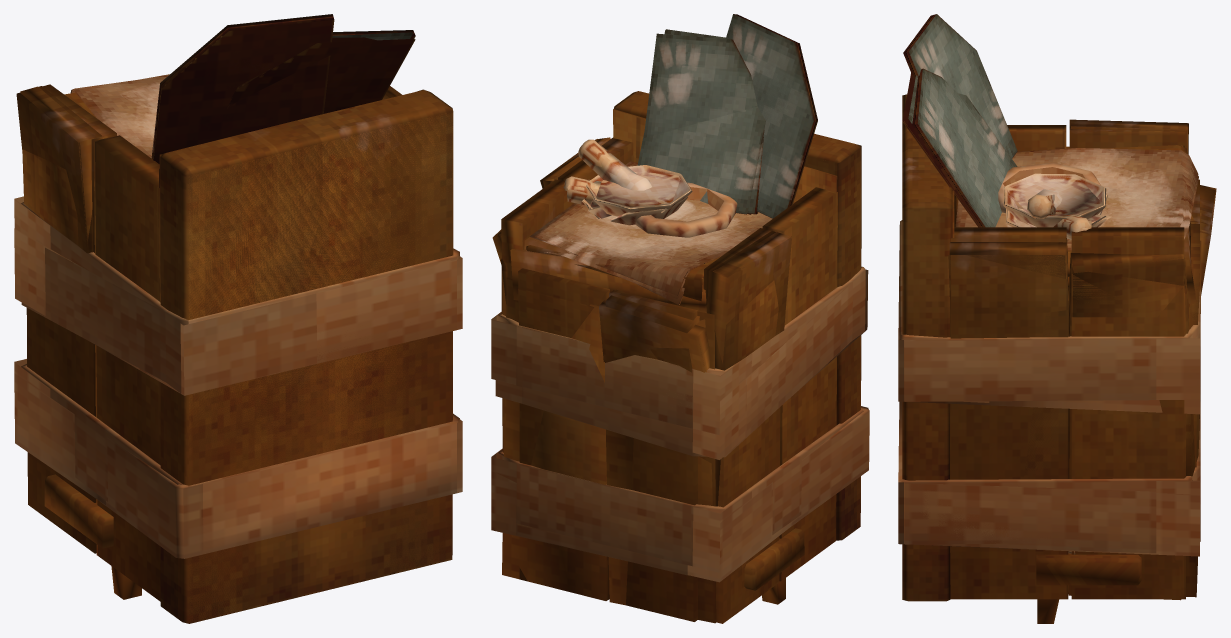
The model's file is chSalonStation.fbx.
3 views of the same model, side by side, from view 1: azimuth 30°, elevation 25°; view 2: azimuth 150°, elevation 25°; view 3: azimuth 270°, elevation 25° (orthographic). The views are drawn at different scales.
Parts seen in each view (by area): view 1: NHigh, NLow, OHigh, OLow, Destroyed_Board03, Salon_Shelf; view 2: NHigh, OHigh, NLow, Destroyed_Board02, OLow, Destroyed_Mirror, Destroyed_Board03, Destroyed_Table, Salon_Shelf, Salon_Vase, Destroyed_Backboard; view 3: OHigh, NHigh, NLow, OLow, Destroyed_Board02, Destroyed_Mirror, Salon_Shelf, Destroyed_Board01, Salon_Vase, Destroyed_Board03, Destroyed_Table.
Boxes of the visible parts, x1,y1,x2,y2 form: NHigh: (21,14,459,623); NLow: (14,20,462,623); OHigh: (16,30,459,623); OLow: (14,33,462,585); Destroyed_Board03: (20,86,111,555); Salon_Shelf: (44,474,141,599); NHigh: (496,14,865,623); OHigh: (492,33,869,581); NLow: (491,14,867,623); Destroyed_Board02: (497,231,716,623); OLow: (491,29,868,582); Destroyed_Mirror: (637,30,765,214); Destroyed_Board03: (713,228,790,581); Destroyed_Table: (510,250,706,327); Salon_Shelf: (744,528,804,604); Salon_Vase: (635,182,737,237); Destroyed_Backboard: (613,109,837,201); OHigh: (898,68,1215,601); NHigh: (898,14,1200,600); NLow: (898,15,1199,599); OLow: (898,73,1199,599); Destroyed_Board02: (1071,185,1216,599); Destroyed_Mirror: (904,75,1017,227); Salon_Shelf: (1036,551,1141,623); Destroyed_Board01: (949,242,1068,599); Salon_Vase: (998,162,1100,213); Destroyed_Board03: (1064,119,1187,148); Destroyed_Table: (1068,145,1198,303).
Size of the model in its own units: 0.9107 by 0.8757 by 1.67.
